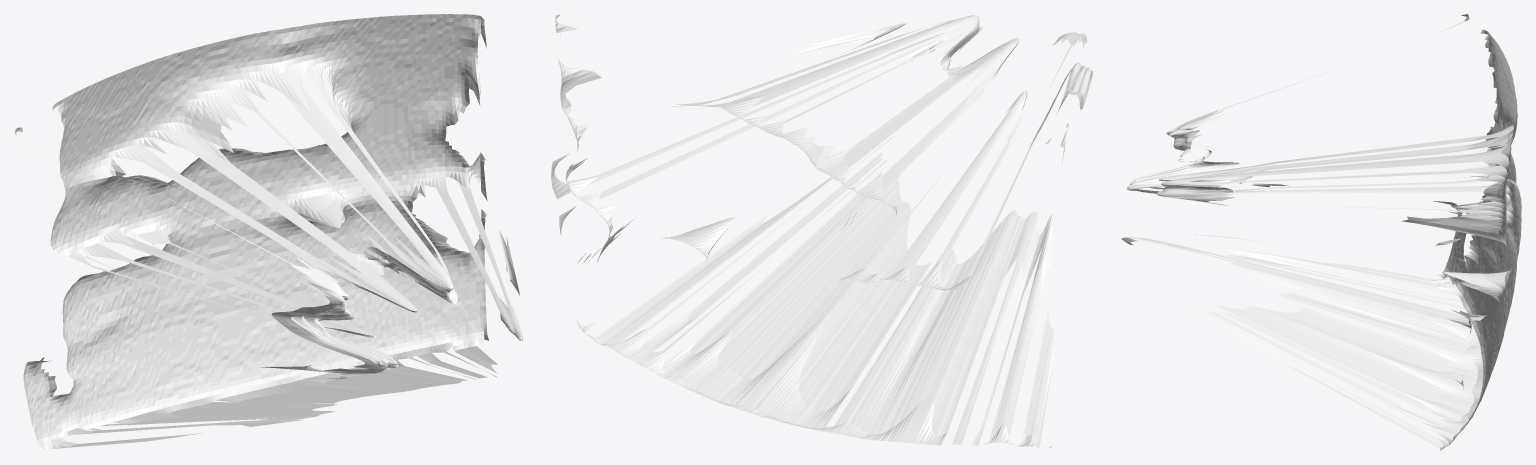
The picture shows the model from 3 angles, left to right: view 1: azimuth 30°, elevation 25°; view 2: azimuth 150°, elevation 25°; view 3: azimuth 270°, elevation 25°; orthographic projection. The views are drawn at different scales.
Parts seen in each view (by area): view 1: defaultobject; view 2: defaultobject; view 3: defaultobject.
Boxes of the visible parts, x1,y1,x2,y2 form: defaultobject: [14, 14, 522, 450]; defaultobject: [551, 14, 1092, 448]; defaultobject: [1122, 14, 1521, 450].
Size of the model in its own units: 40.38 by 27.62 by 36.29.
Materials: 1 (1 with a texture image).
